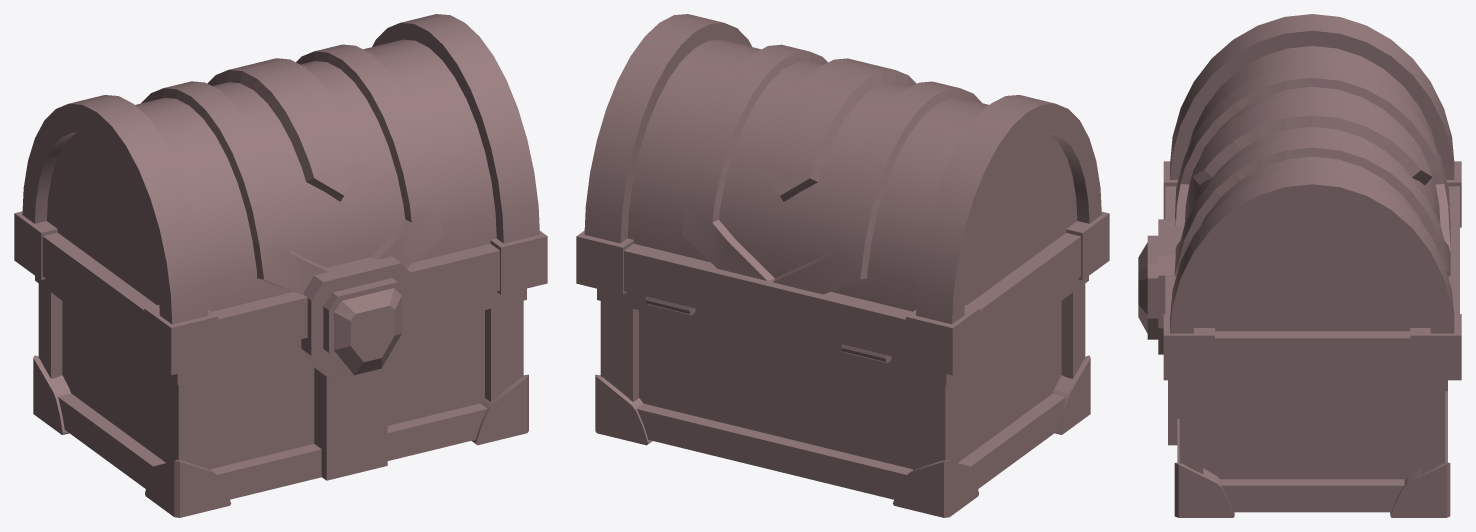
The model's file is chest.obj.
The picture shows the model from 3 angles, left to right: view 1: azimuth 30°, elevation 25°; view 2: azimuth 150°, elevation 25°; view 3: azimuth 270°, elevation 25°; orthographic projection. The views are drawn at different scales.
Parts seen in each view (by area): view 1: MeshChest01; view 2: MeshChest01; view 3: MeshChest01.
Boxes of the visible parts, box(x1,y1,x2,y2) form: MeshChest01: box(14, 14, 547, 517); MeshChest01: box(576, 14, 1109, 517); MeshChest01: box(1138, 14, 1461, 517).
Size of the model in its own units: 0.1874 by 0.1688 by 0.1468.
